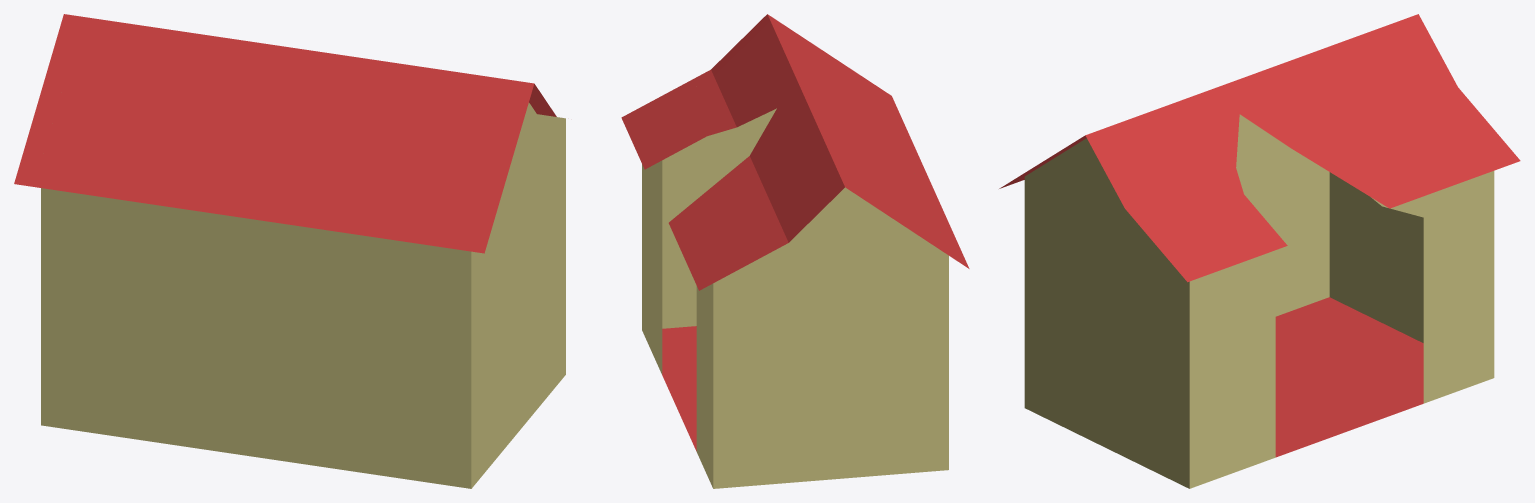
3 renders of one model, left to right at view 1: azimuth 30°, elevation 25°; view 2: azimuth 150°, elevation 25°; view 3: azimuth 270°, elevation 25°, orthographic. The views are drawn at different scales.
Size of the model in its own units: 20.25 by 20.88 by 13.87.
